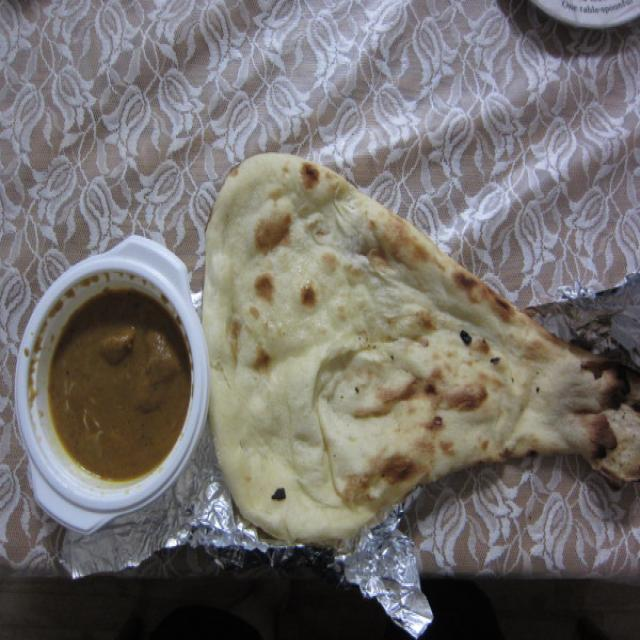Beef Curry: (44, 286, 184, 485)
